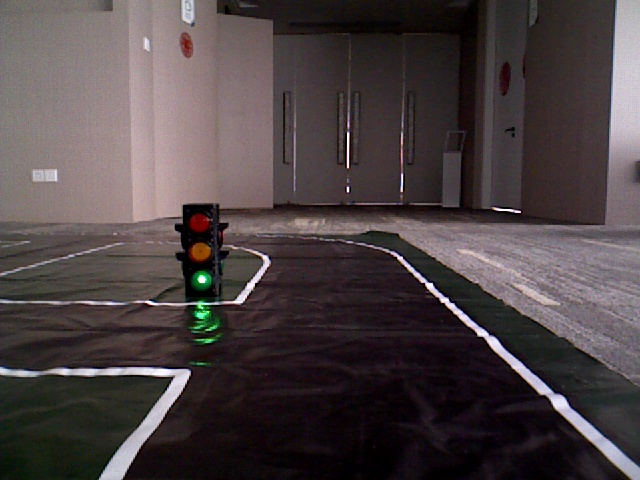green: (184, 204, 217, 292)
